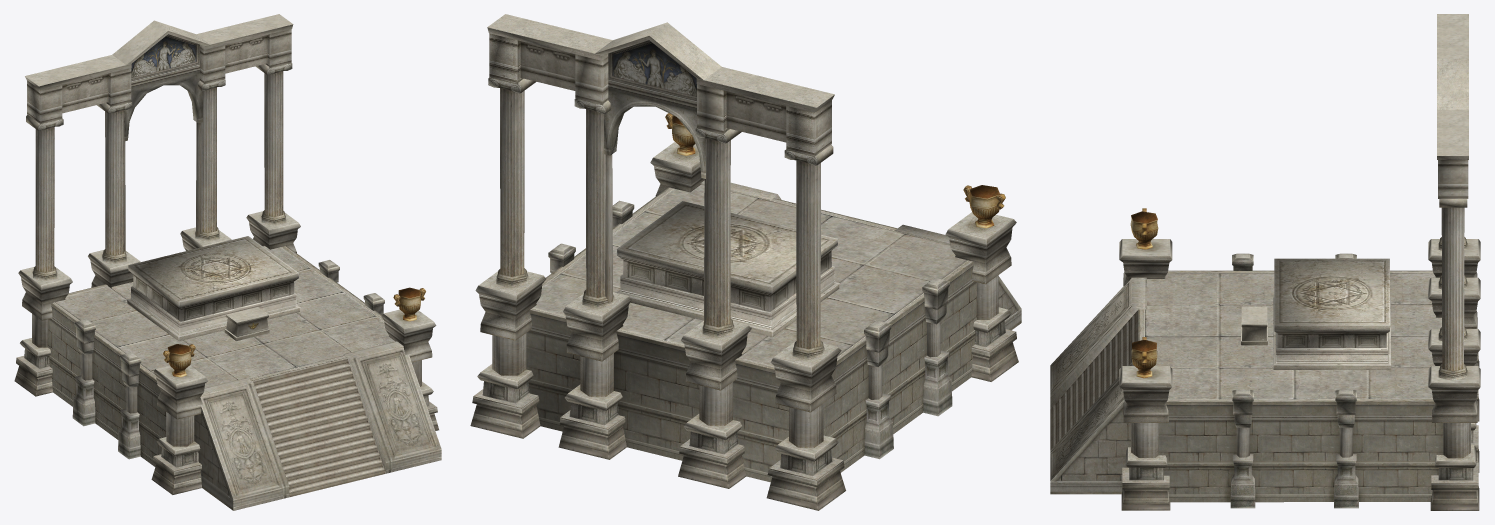
The model's file is jupiter_altar.glb.
The picture shows the model from 3 angles, left to right: view 1: azimuth 30°, elevation 25°; view 2: azimuth 150°, elevation 25°; view 3: azimuth 270°, elevation 25°; orthographic projection. The views are drawn at different scales.
Parts seen in each view (by area): view 1: Piety_altar_pattern, Piety_altar_width, Piety_altar_floor, Piety_altar_pillar, Piety_altar_altar, Piety_altar_stair, Piety_altar_brick, Piety_altar_top, Piety_altar_brazier; view 2: Piety_altar_width, Piety_altar_brick, Piety_altar_pillar, Piety_altar_floor, Piety_altar_pattern, Piety_altar_altar, Piety_altar_top, Piety_altar_brazier; view 3: Piety_altar_brick, Piety_altar_floor, Piety_altar_pattern, Piety_altar_altar, Piety_altar_width, Piety_altar_pillar, Piety_altar_top, Piety_altar_stair, Piety_altar_brazier.
Boxes of the visible parts, x1,y1,x2,y2 form: Piety_altar_pattern: (20, 70, 441, 510); Piety_altar_width: (14, 29, 438, 494); Piety_altar_floor: (17, 247, 436, 470); Piety_altar_pillar: (26, 63, 421, 446); Piety_altar_altar: (25, 24, 300, 341); Piety_altar_stair: (252, 358, 385, 497); Piety_altar_brick: (48, 303, 233, 510); Piety_altar_top: (25, 14, 292, 337); Piety_altar_brazier: (163, 287, 425, 377); Piety_altar_width: (470, 33, 1018, 510); Piety_altar_brick: (526, 262, 1021, 482); Piety_altar_pillar: (488, 77, 998, 447); Piety_altar_floor: (473, 184, 1015, 479); Piety_altar_pattern: (478, 87, 1013, 475); Piety_altar_altar: (487, 27, 839, 337); Piety_altar_top: (487, 14, 834, 107); Piety_altar_brazier: (665, 113, 1005, 228); Piety_altar_brick: (1050, 402, 1443, 502); Piety_altar_floor: (1122, 273, 1478, 483); Piety_altar_pattern: (1050, 239, 1478, 508); Piety_altar_altar: (1241, 156, 1468, 369); Piety_altar_width: (1119, 160, 1480, 510); Piety_altar_pillar: (1131, 199, 1470, 458); Piety_altar_top: (1241, 14, 1468, 341); Piety_altar_stair: (1050, 310, 1138, 449); Piety_altar_brazier: (1130, 208, 1158, 378).
Bounding box in the file's own units: 27.77 × 32.63 × 33.71.
Materials: 10 (10 with a texture image).
